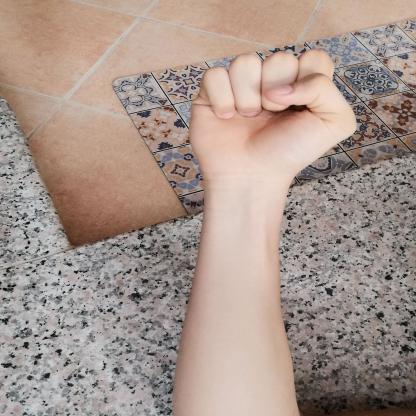SAD: (169, 33, 370, 197)
